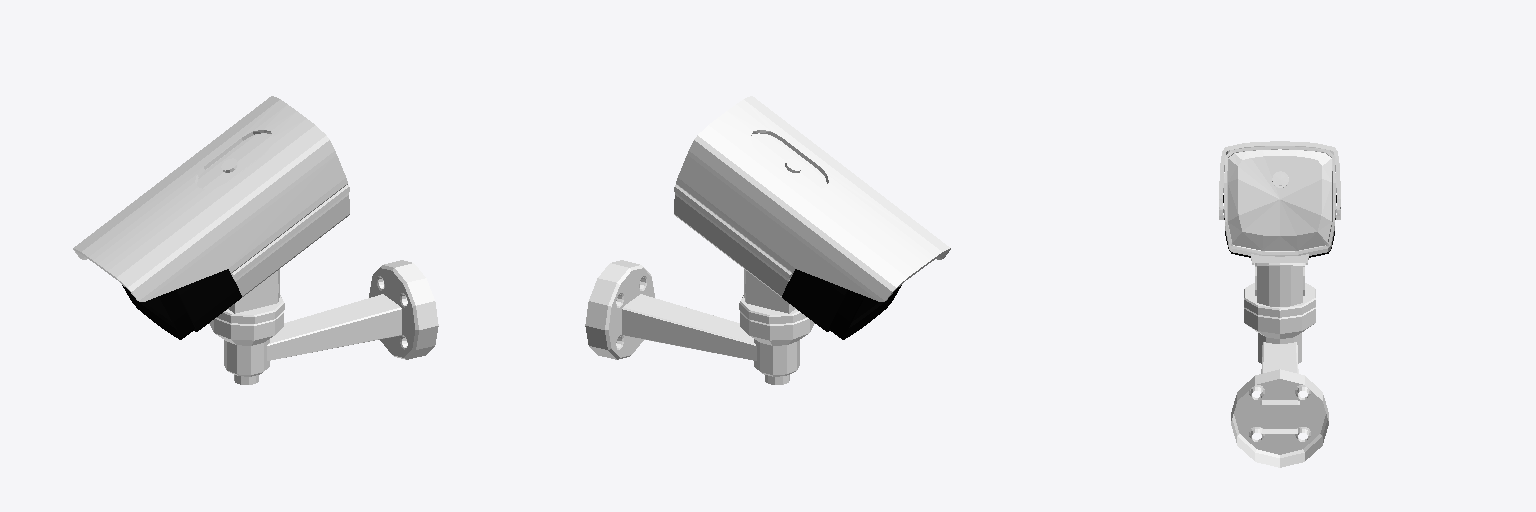
The model's file is jiankong.obj.
The picture shows the model from 3 angles: view 1: azimuth 30°, elevation 25°; view 2: azimuth 150°, elevation 25°; view 3: azimuth 270°, elevation 25°; orthographic projection.
Visible parts, largest first — view 1: jiankong; view 2: jiankong; view 3: jiankong.
Boxes of the visible parts, box(x1,y1,x2,y2) form: jiankong: box(73, 96, 438, 384); jiankong: box(585, 96, 950, 384); jiankong: box(1219, 141, 1340, 467).
Bounding box in the file's own units: 18.33 × 14.94 × 6.15.